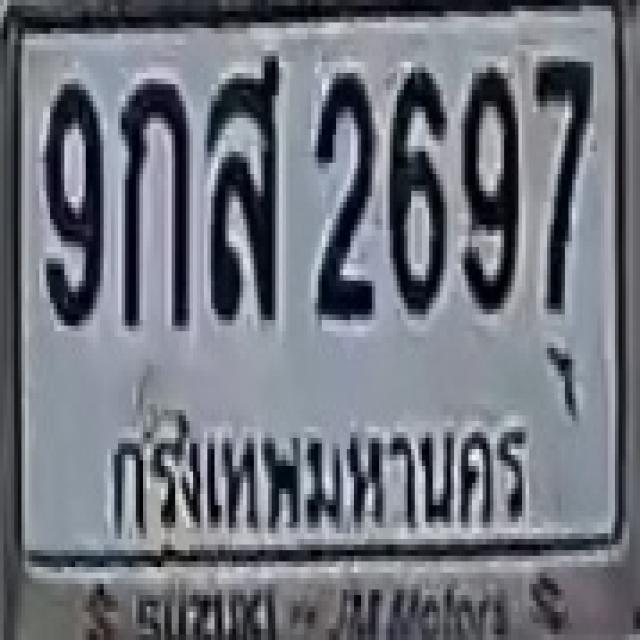2: (312, 68, 373, 314)
6: (386, 65, 443, 312)
7: (533, 56, 590, 314)
9: (43, 79, 100, 320), (463, 62, 517, 309)
A01: (118, 78, 186, 326)
A40: (204, 54, 279, 318)
BKK: (98, 406, 542, 548)
